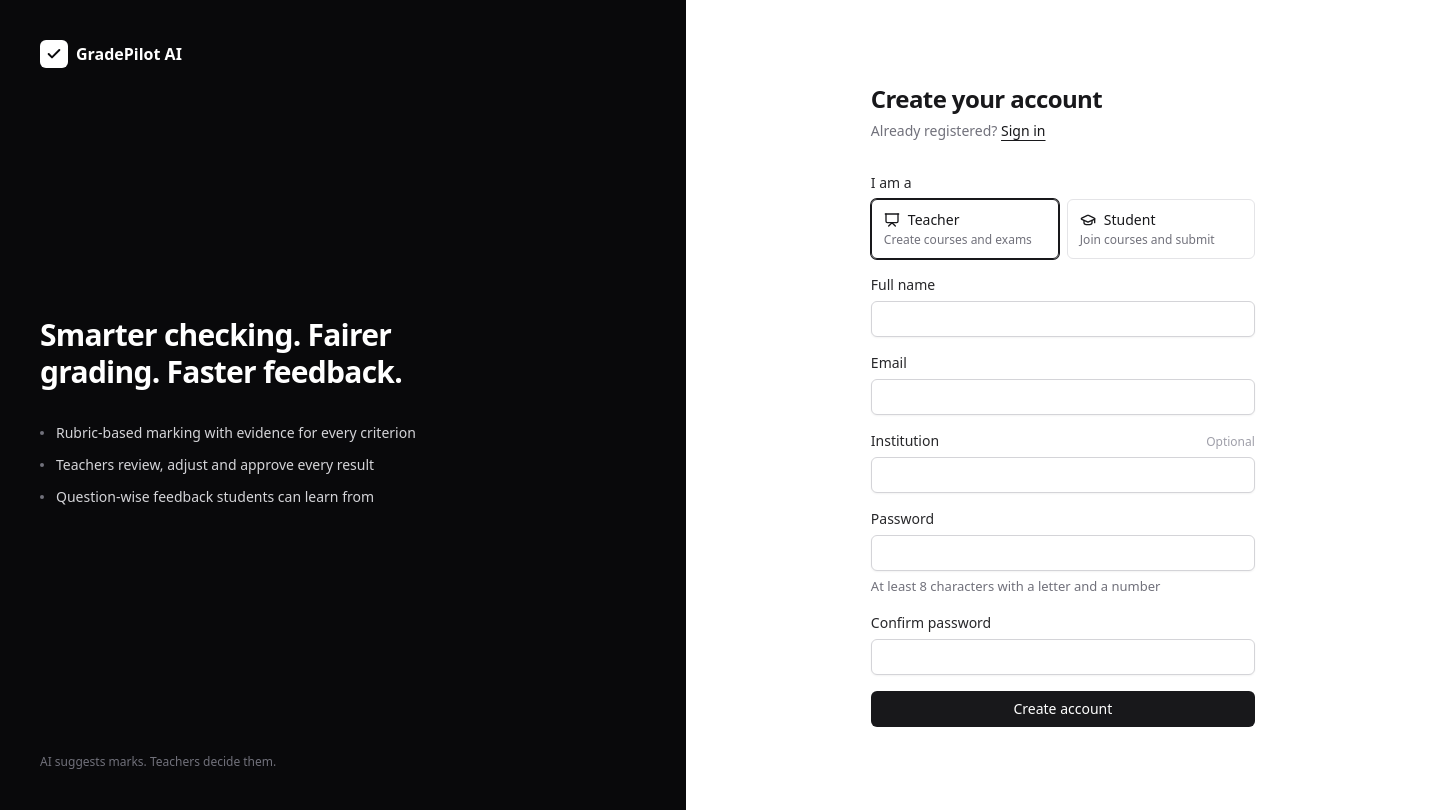
Test: registration › flags mismatched passwords
The image size is (1440, 810).
In the field labelled "Full name": (1063, 319) [871,301,1255,337], type "Ada Teacher"
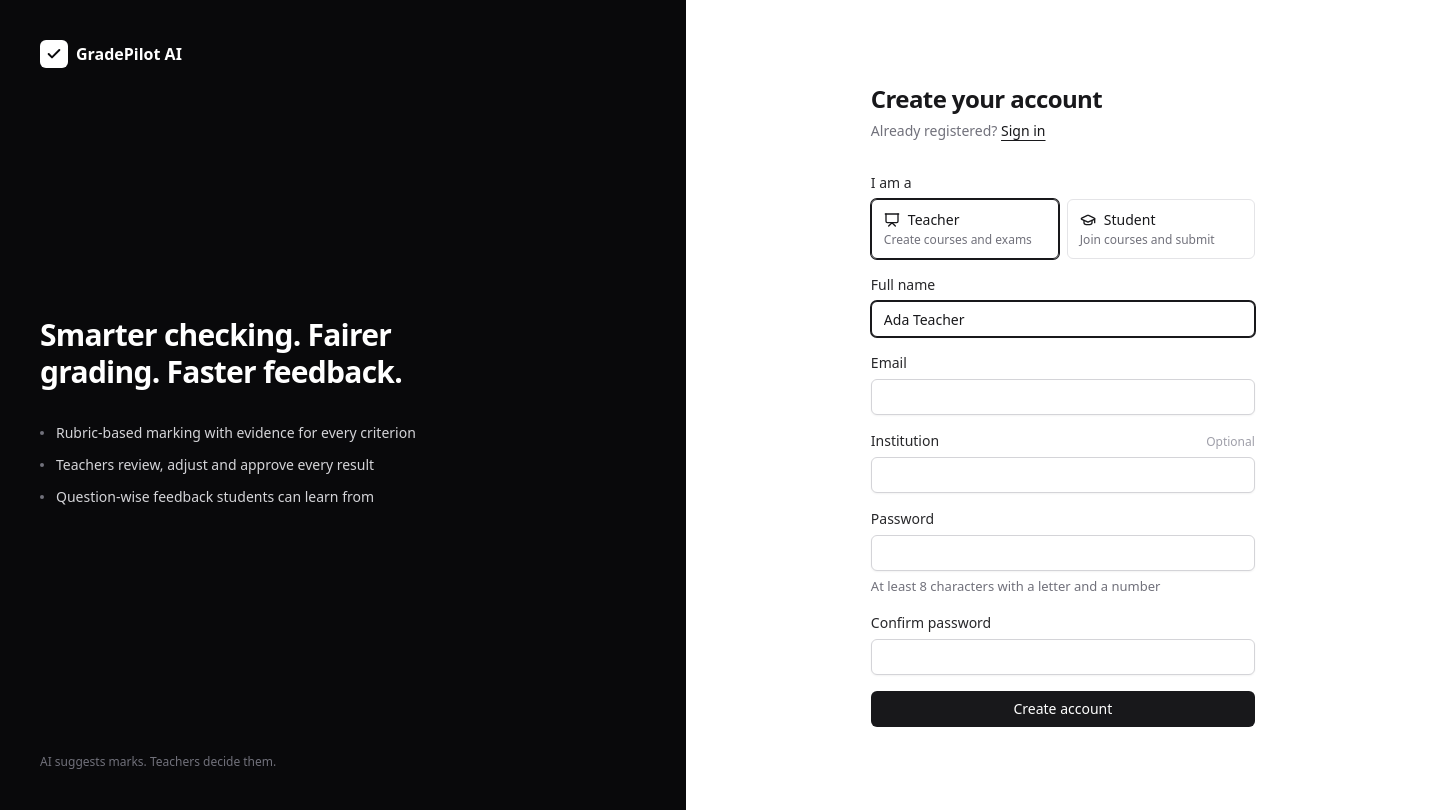
In the field labelled "Email": (1063, 397) [871,379,1255,415], type "ada@example.edu"
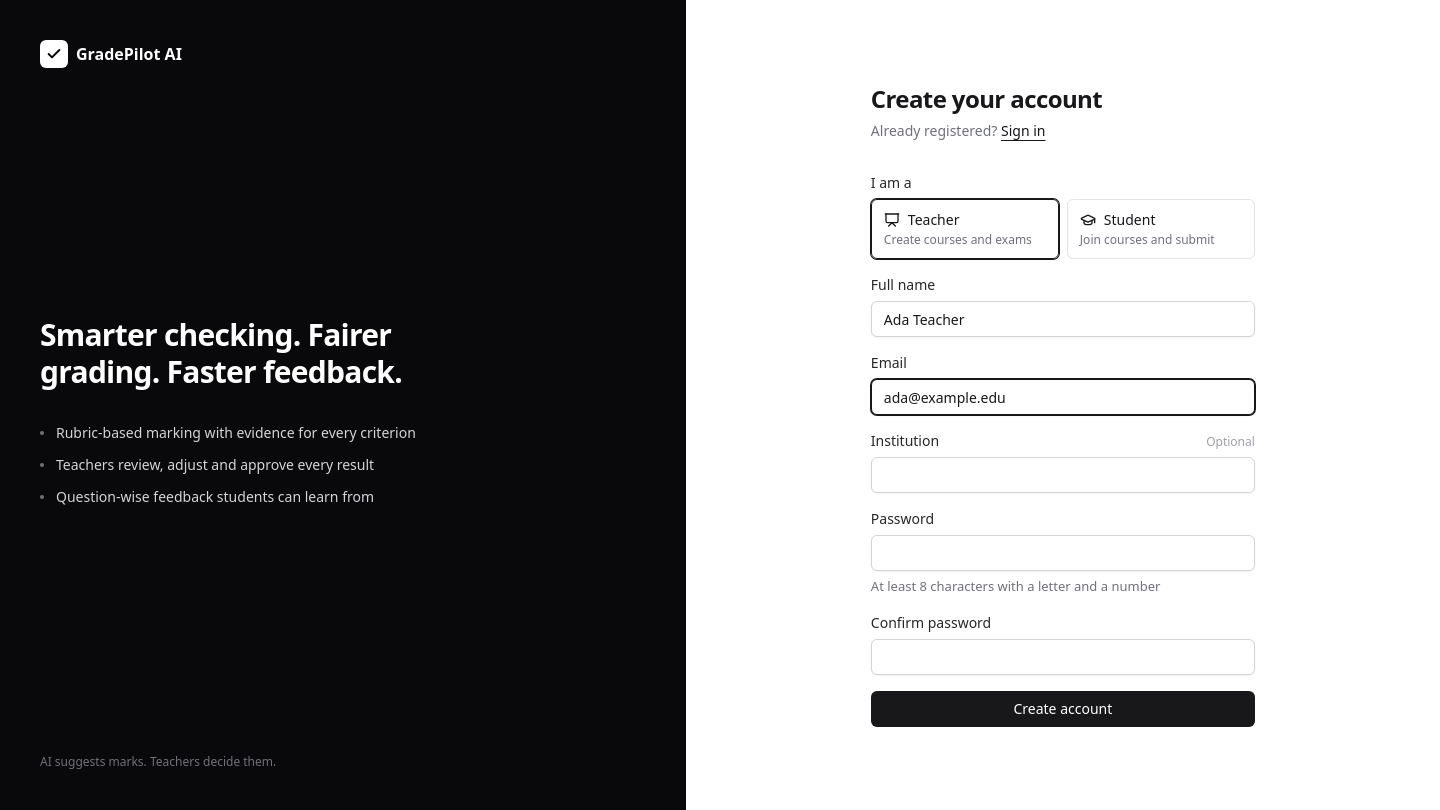
In the password field labelled "Password": (1063, 553) [871,535,1255,571], type "Passw0rd1"
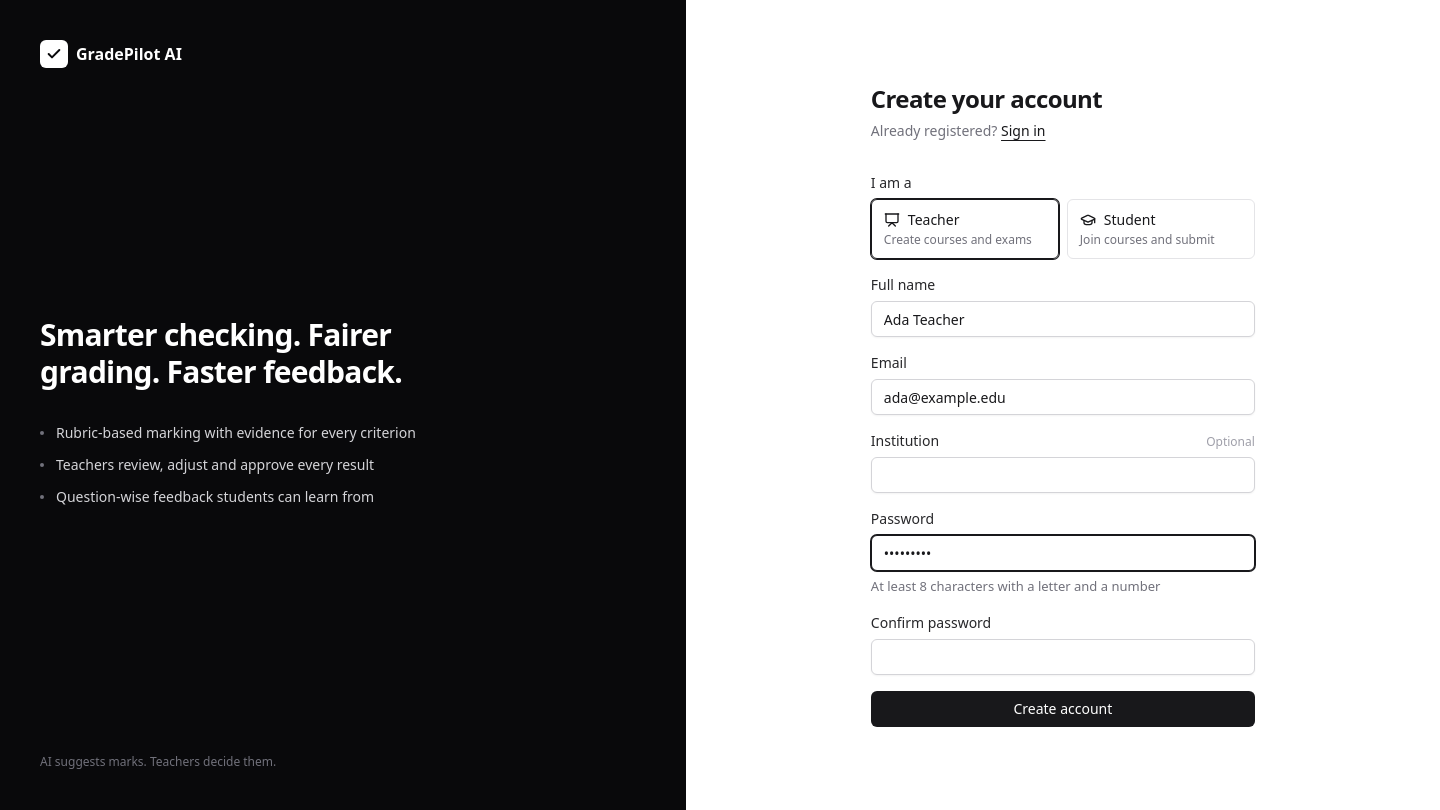
In the password field labelled "Confirm password": (1063, 657) [871,639,1255,675], type "Different1"
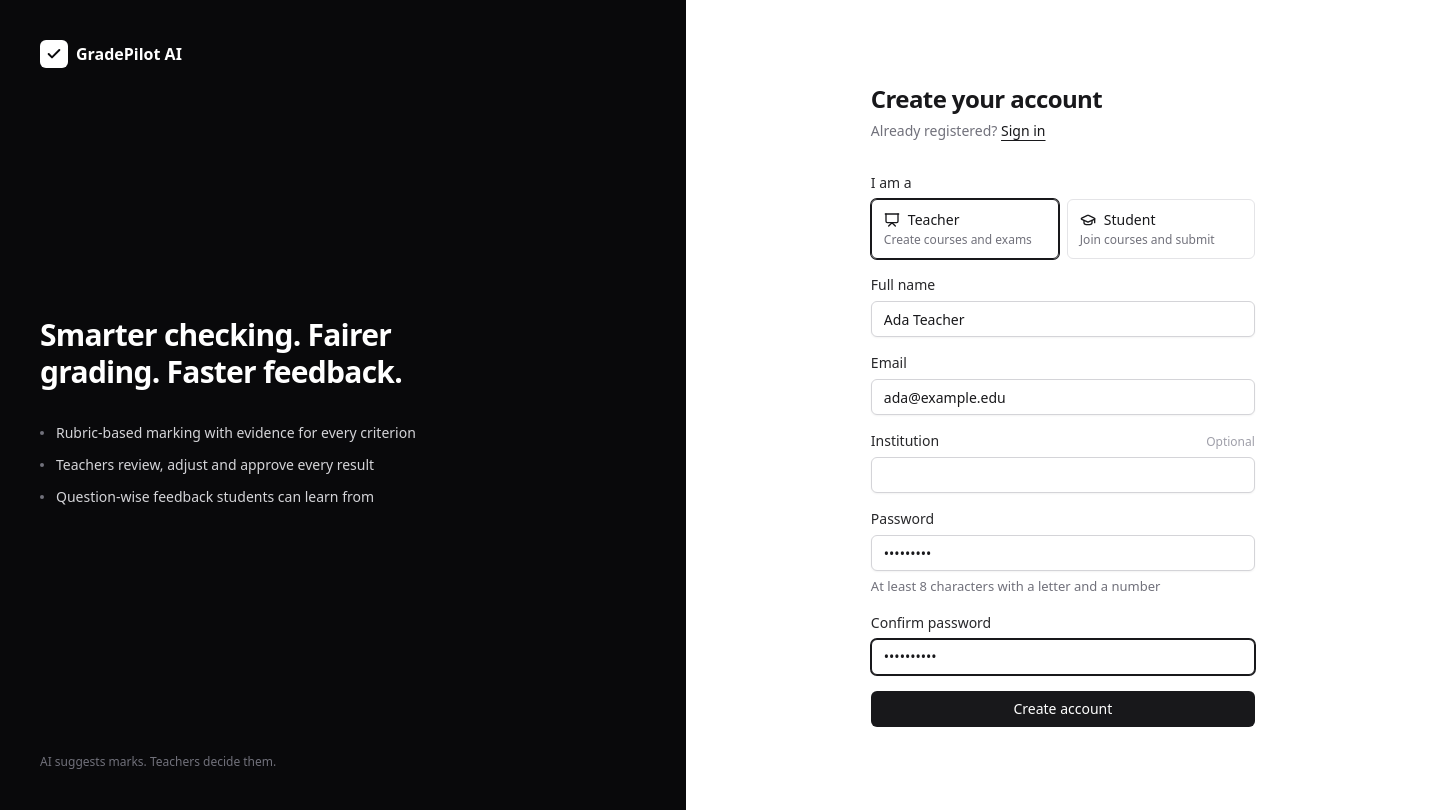
Click the button "Create account": click(1063, 709) [871,691,1255,727]
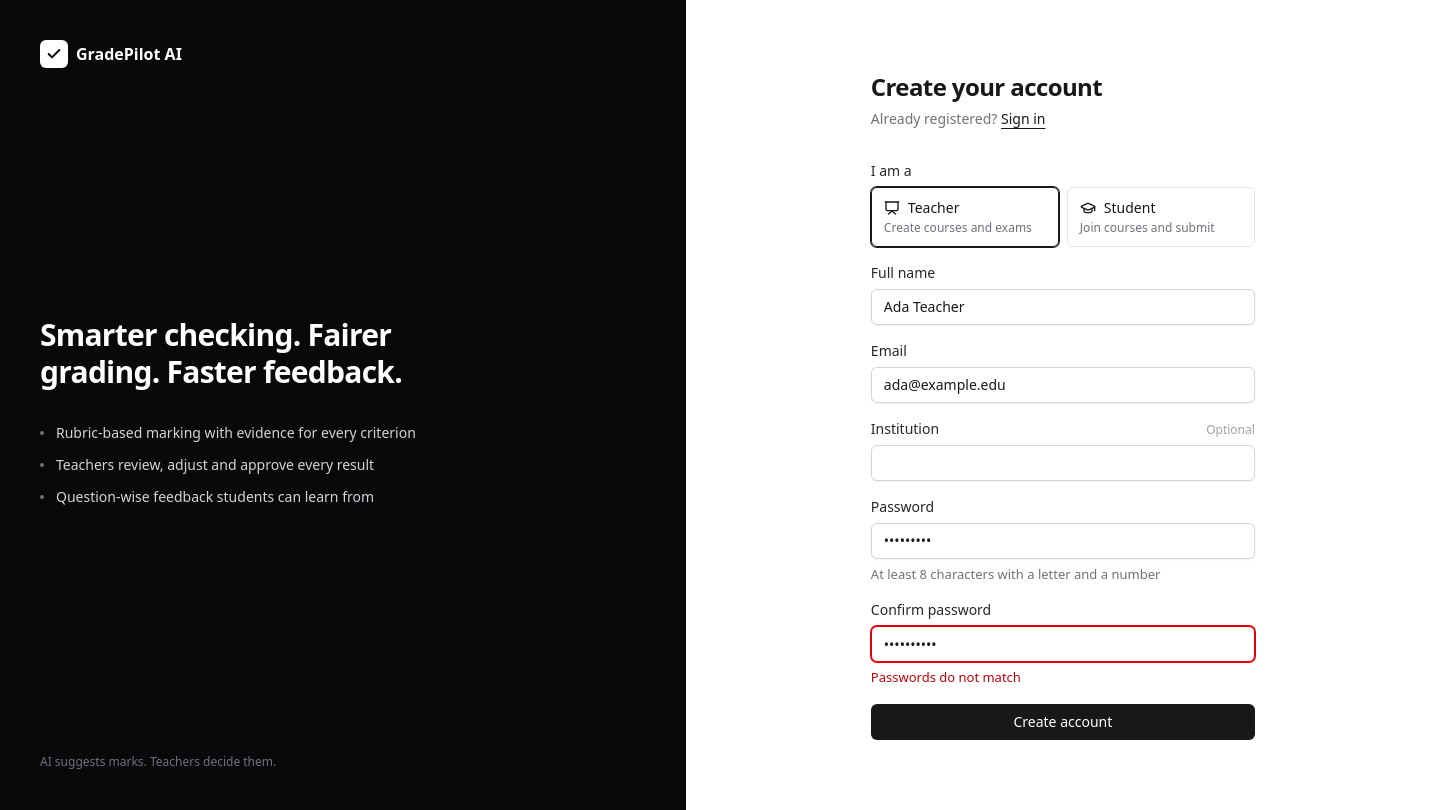
Now the text "Passwords do not match" is shown, box [871,668,1021,686]
